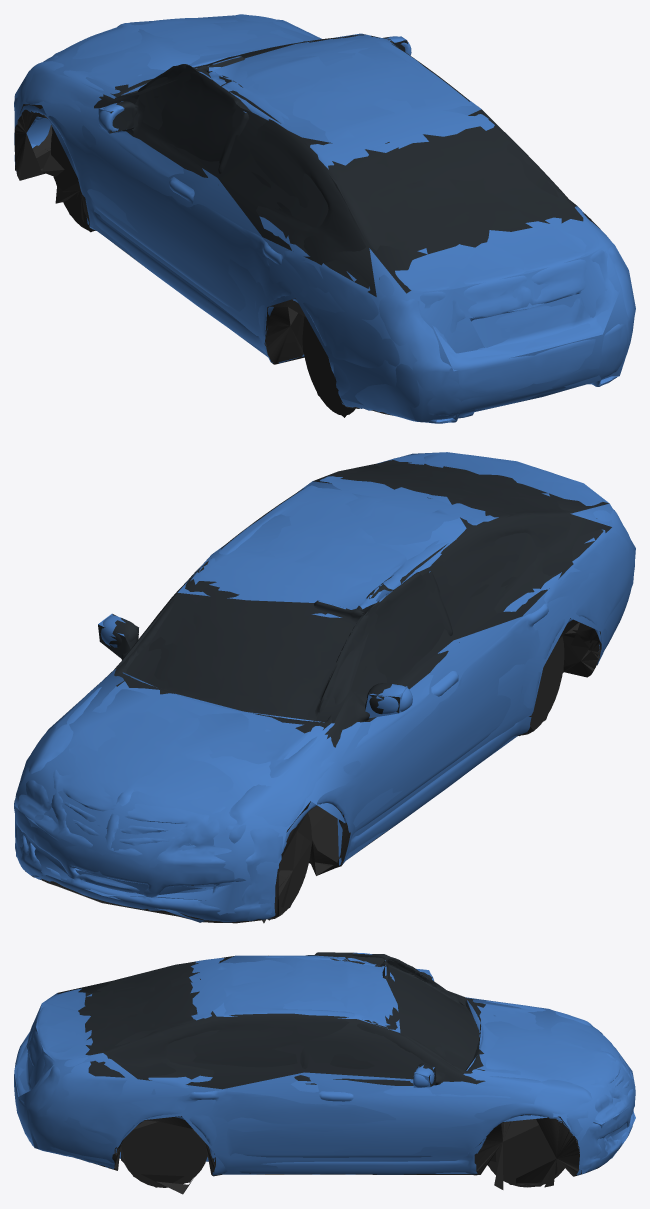
Rendered from hyundai-equus.glb.
3 renders of one model, top to bottom at view 1: azimuth 30°, elevation 25°; view 2: azimuth 150°, elevation 25°; view 3: azimuth 270°, elevation 25°, orthographic. The views are drawn at different scales.
Parts seen in each view (by area): view 1: body, far; view 2: body, far; view 3: body, far.
Part boxes in pixels (x1,y1,x2,y2): body: (14, 14, 634, 423); far: (14, 15, 635, 422); body: (14, 453, 634, 923); far: (14, 452, 635, 923); body: (14, 952, 635, 1194); far: (14, 954, 635, 1188).
Size of the model in its own units: 2.22 by 1.65 by 5.4.
